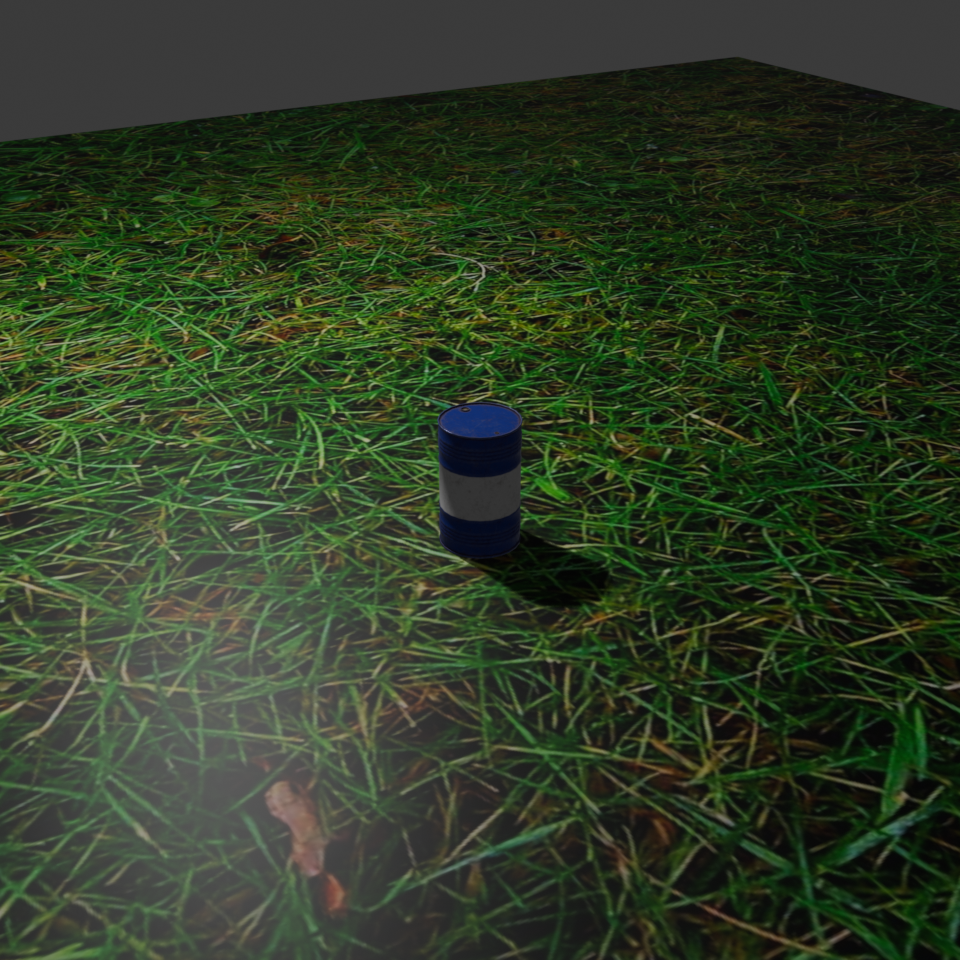circle: (437, 400, 521, 560)
